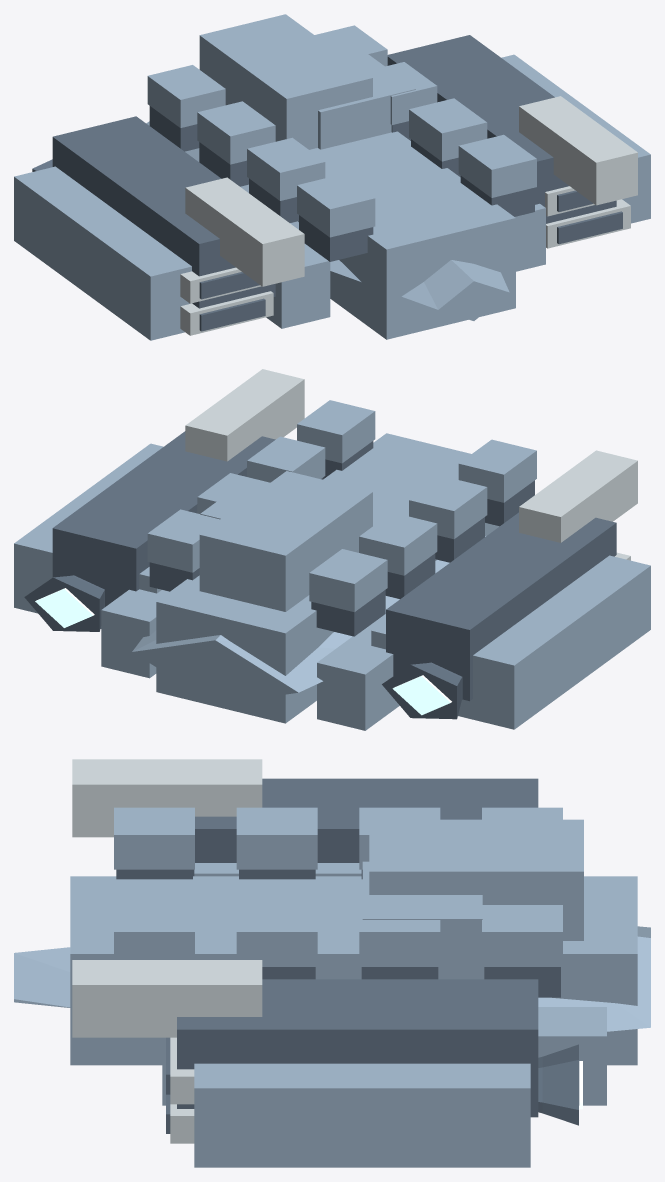
The picture shows the model from 3 angles, top to bottom: view 1: azimuth 30°, elevation 25°; view 2: azimuth 150°, elevation 25°; view 3: azimuth 270°, elevation 25°; orthographic projection. The views are drawn at different scales.
Size of the model in its own units: 18.56 by 5.78 by 16.62.
